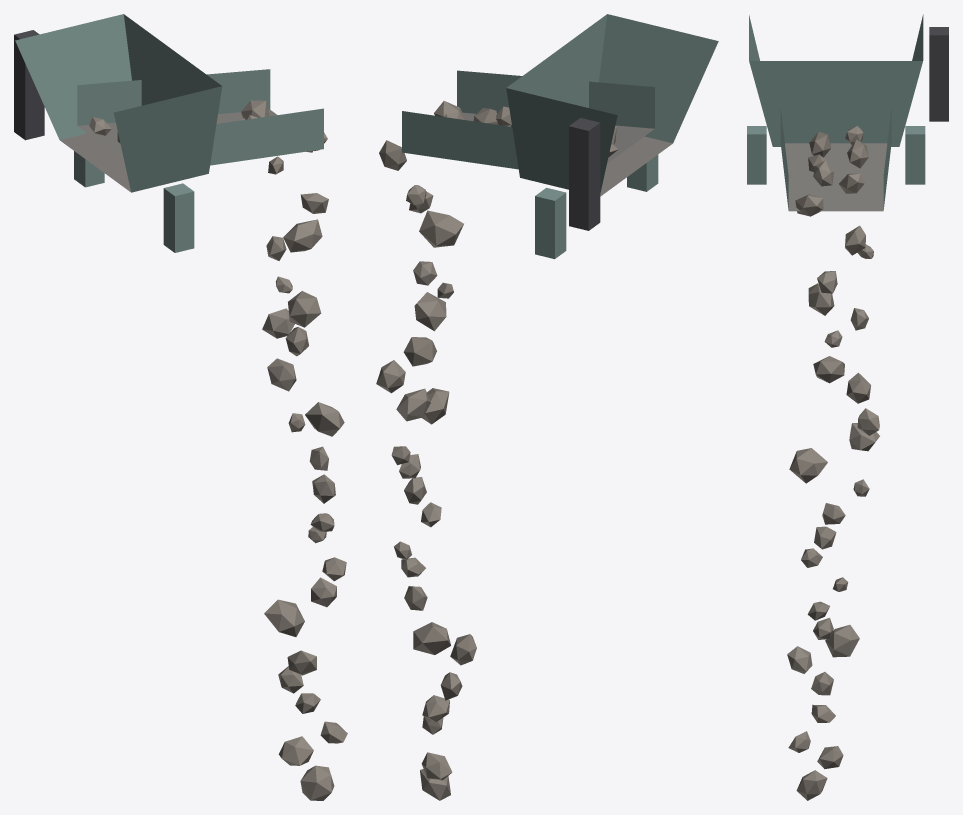
Rendered from EQ_LoadingChute.glb.
3 renders of one model, left to right at view 1: azimuth 30°, elevation 25°; view 2: azimuth 150°, elevation 25°; view 3: azimuth 270°, elevation 25°, orthographic. The views are drawn at different scales.
Parts seen in each view (by area): view 1: SK_Chute_Hopper, SK_OreStream_Load, SK_Chute_Lip; view 2: SK_Chute_Hopper, SK_OreStream_Load, SK_Chute_Lip; view 3: SK_Chute_Hopper, SK_OreStream_Load, SK_Chute_Lip.
Boxes of the visible parts, box(x1,y1,x2,y2) form: SK_Chute_Hopper: box(14, 14, 222, 252); SK_OreStream_Load: box(89, 100, 347, 800); SK_Chute_Lip: box(77, 69, 323, 165); SK_Chute_Hopper: box(506, 14, 718, 259); SK_OreStream_Load: box(376, 101, 618, 800); SK_Chute_Lip: box(402, 70, 654, 169); SK_Chute_Hopper: box(747, 14, 948, 184); SK_OreStream_Load: box(787, 126, 879, 800); SK_Chute_Lip: box(780, 108, 891, 211).
Size of the model in its own units: 3.49 by 9.5 by 2.55.
